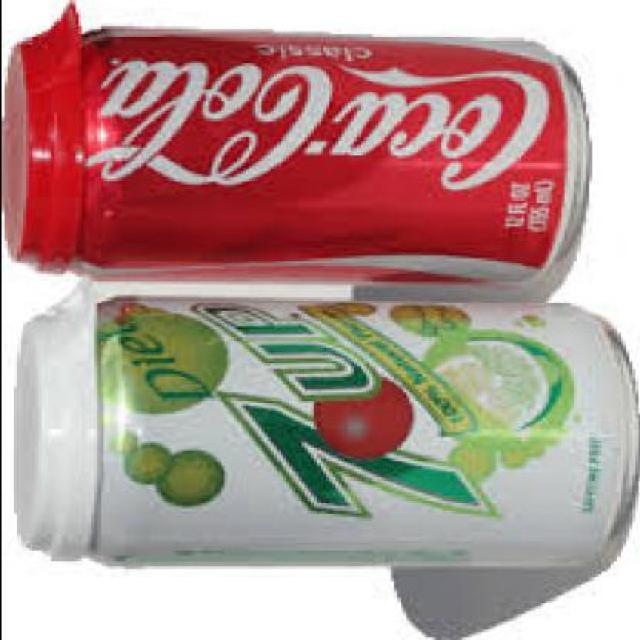metal: (43, 302, 637, 572), (30, 40, 588, 298)
